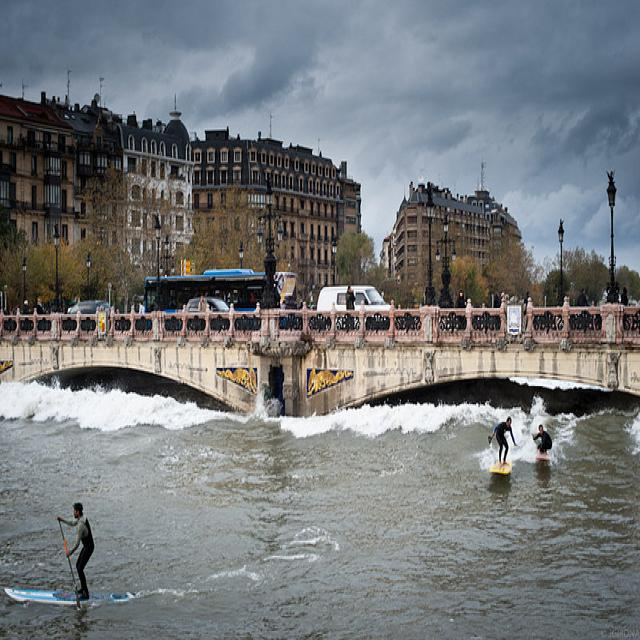Vehicle: (143, 270, 264, 312), (318, 284, 393, 308), (184, 295, 256, 314), (68, 298, 112, 316)
